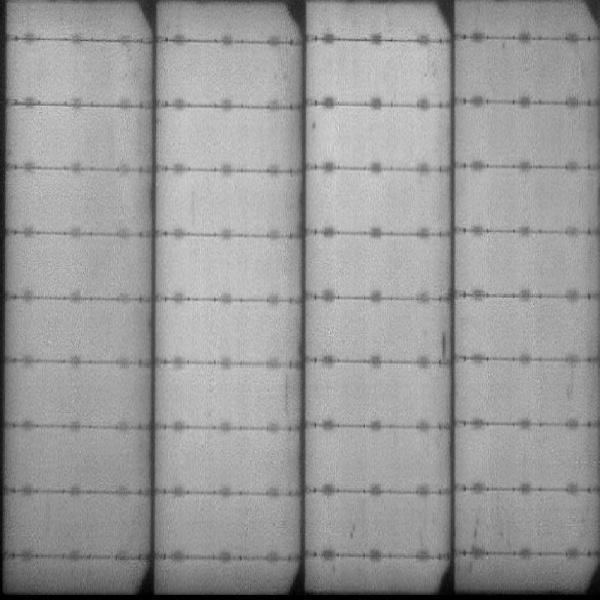scratch: (437, 330, 449, 364)
